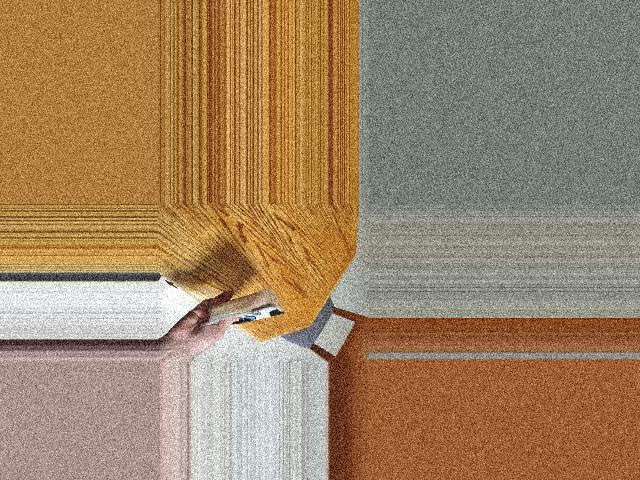cheese: (207, 280, 280, 343)
